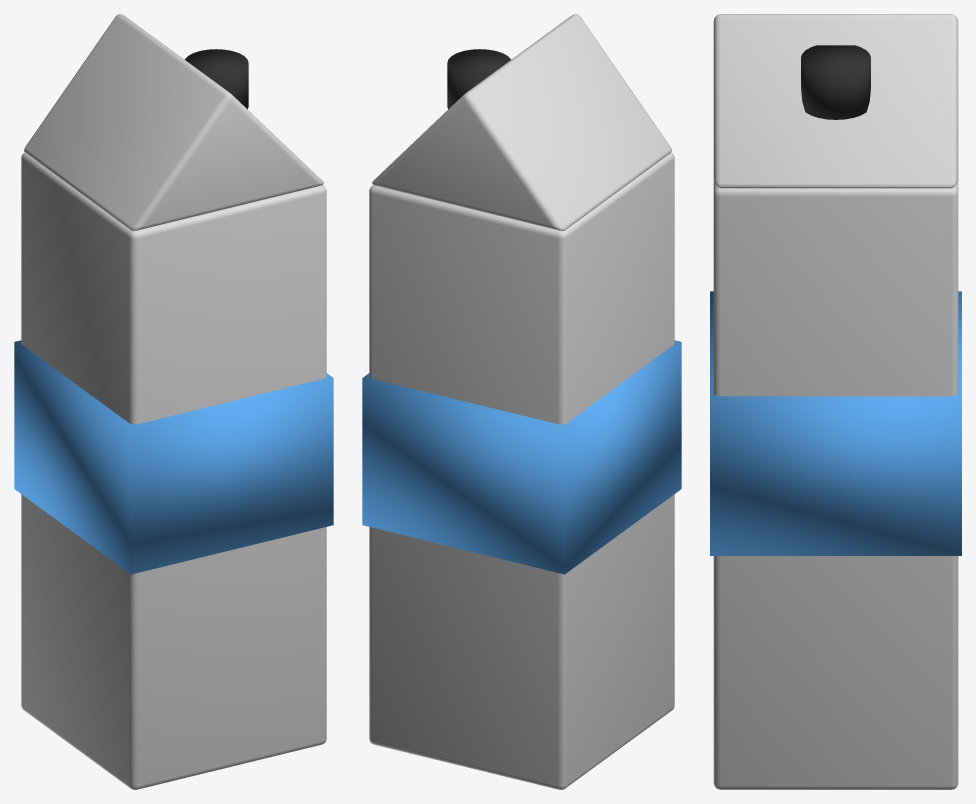
File: SM_Milk.glb
The picture shows the model from 3 angles, left to right: view 1: azimuth 30°, elevation 25°; view 2: azimuth 150°, elevation 25°; view 3: azimuth 270°, elevation 25°; orthographic projection. The views are drawn at different scales.
Visible parts, largest first — view 1: SM_Milk; view 2: SM_Milk; view 3: SM_Milk.
Part boxes in pixels (x1,y1,x2,y2): SM_Milk: (14, 14, 333, 789); SM_Milk: (362, 14, 681, 789); SM_Milk: (710, 14, 961, 789).
Bounding box in the file's own units: 0.072 × 0.2291 × 0.072.
